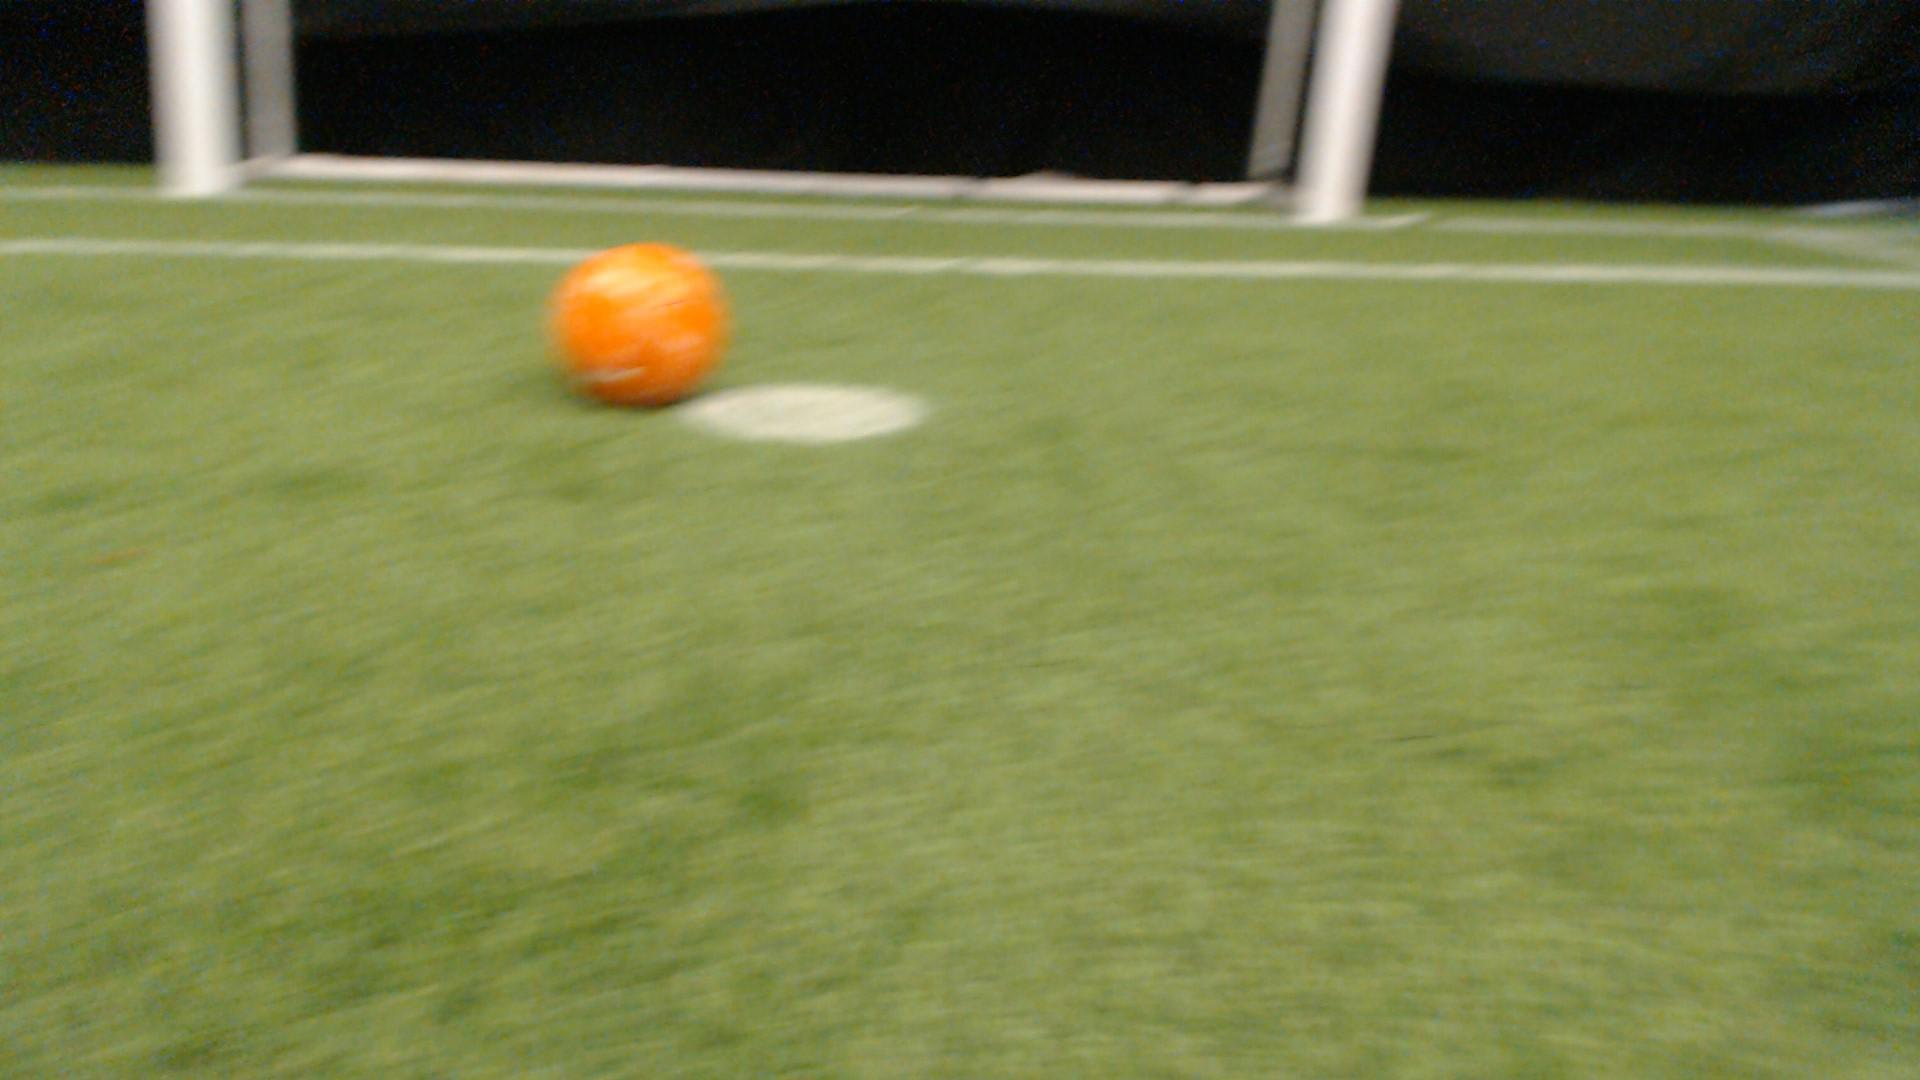bola: (534, 236, 761, 418)
